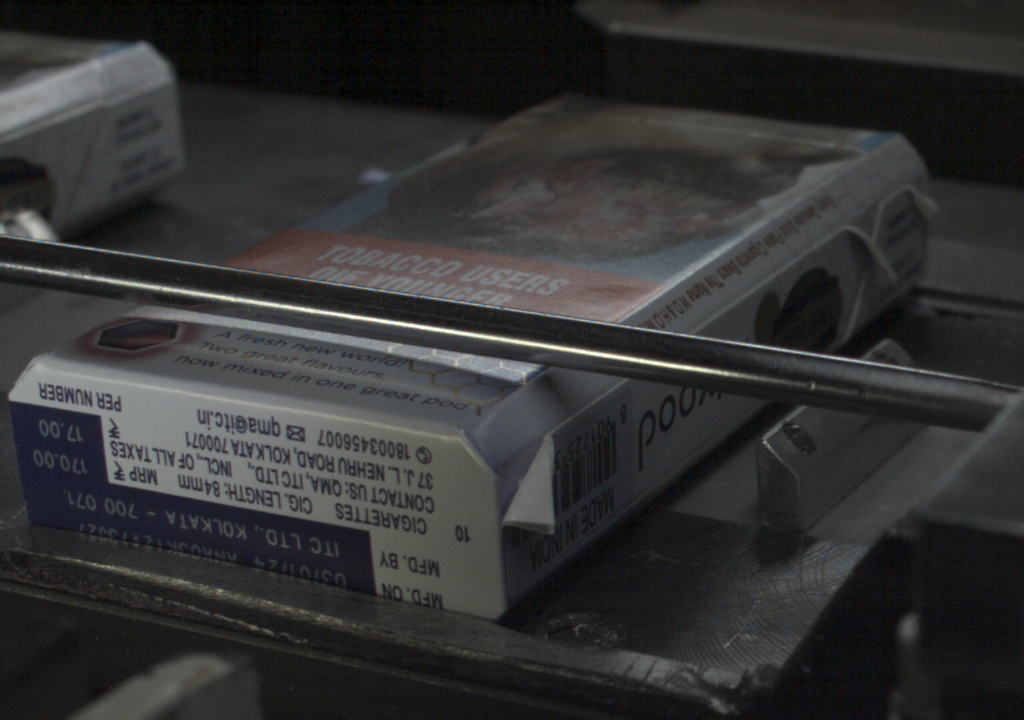g_bottom: (14, 350, 491, 619)
g_label: (22, 485, 375, 599)
ng_lmiter: (498, 425, 565, 533), (827, 225, 889, 293)
ng_miter: (864, 170, 932, 223)
price: (16, 412, 105, 483)
